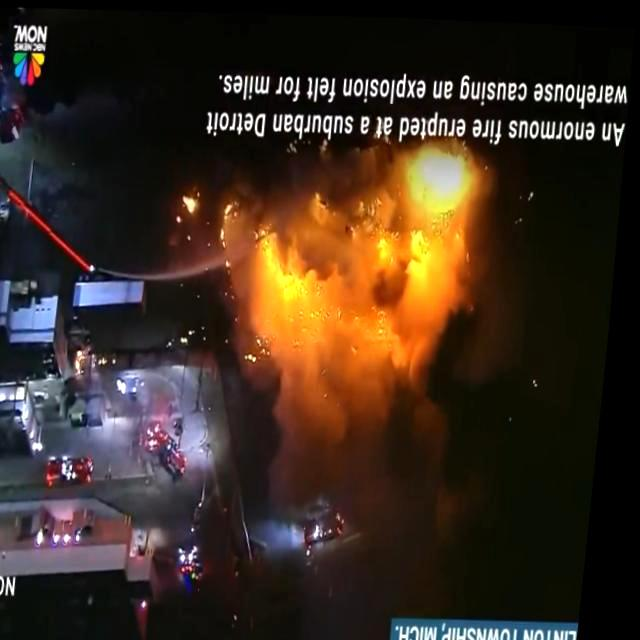fire: (237, 98, 495, 366)
